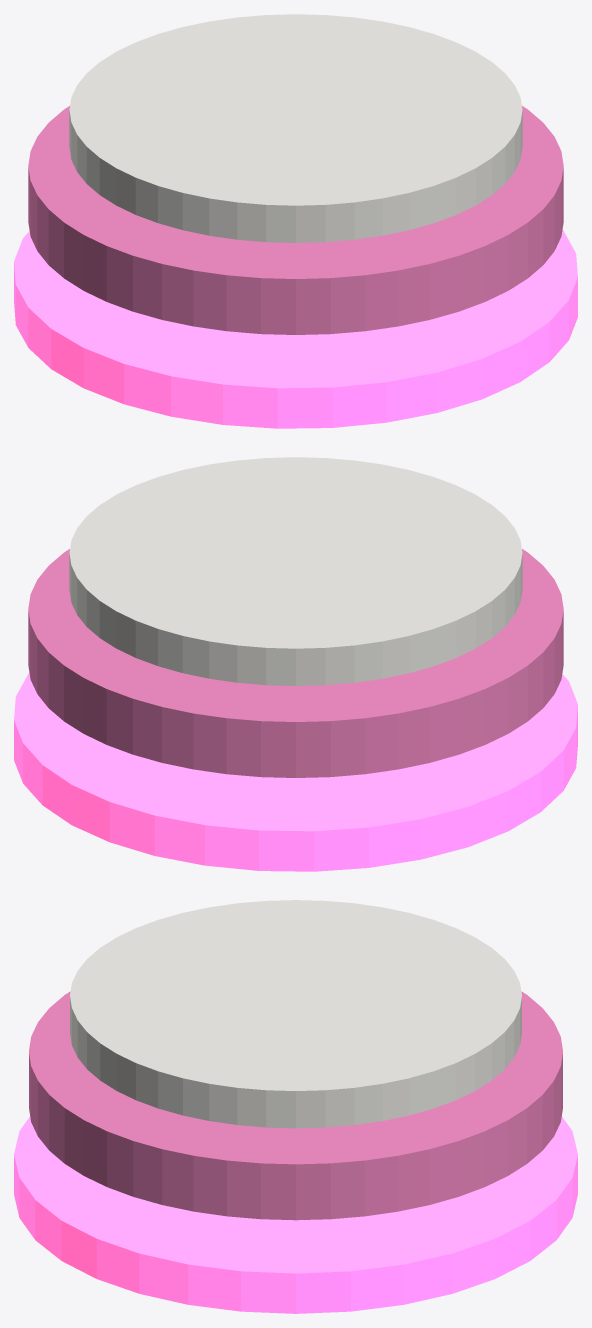
File: beauty_compact_powder.glb
3 renders of one model, top to bottom at view 1: azimuth 30°, elevation 25°; view 2: azimuth 150°, elevation 25°; view 3: azimuth 270°, elevation 25°, orthographic.
Parts seen in each view (by area): view 1: 03_12_Popular_Beauty_Compact_Powder_part_02, 03_12_Popular_Beauty_Compact_Powder_part_01, 03_12_Popular_Beauty_Compact_Powder_ROOT_base; view 2: 03_12_Popular_Beauty_Compact_Powder_part_02, 03_12_Popular_Beauty_Compact_Powder_part_01, 03_12_Popular_Beauty_Compact_Powder_ROOT_base; view 3: 03_12_Popular_Beauty_Compact_Powder_part_02, 03_12_Popular_Beauty_Compact_Powder_part_01, 03_12_Popular_Beauty_Compact_Powder_ROOT_base.
Boxes of the visible parts, bbox=[...] form: 03_12_Popular_Beauty_Compact_Powder_part_02: bbox=[69, 14, 522, 242]; 03_12_Popular_Beauty_Compact_Powder_part_01: bbox=[28, 106, 563, 334]; 03_12_Popular_Beauty_Compact_Powder_ROOT_base: bbox=[14, 230, 577, 428]; 03_12_Popular_Beauty_Compact_Powder_part_02: bbox=[69, 457, 522, 685]; 03_12_Popular_Beauty_Compact_Powder_part_01: bbox=[28, 549, 563, 777]; 03_12_Popular_Beauty_Compact_Powder_ROOT_base: bbox=[14, 673, 577, 871]; 03_12_Popular_Beauty_Compact_Powder_part_02: bbox=[70, 900, 521, 1128]; 03_12_Popular_Beauty_Compact_Powder_part_01: bbox=[29, 991, 562, 1220]; 03_12_Popular_Beauty_Compact_Powder_ROOT_base: bbox=[14, 1116, 577, 1313].
Bounding box in the file's own units: 0.76 × 0.2962 × 0.76.
